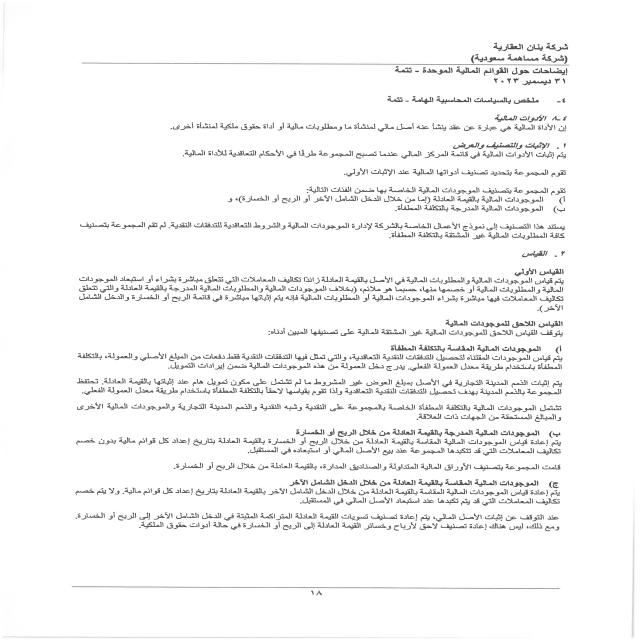notes: (373, 65, 571, 76)
text: (49, 89, 582, 541)
